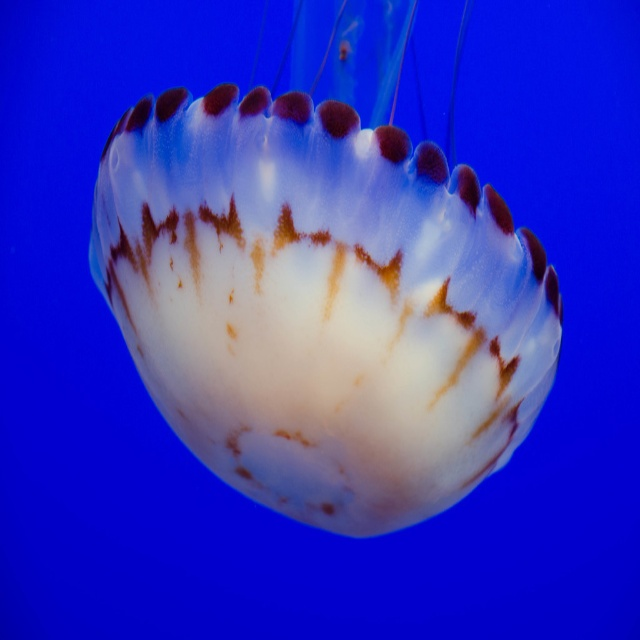Jellyfish: (89, 0, 563, 537)
